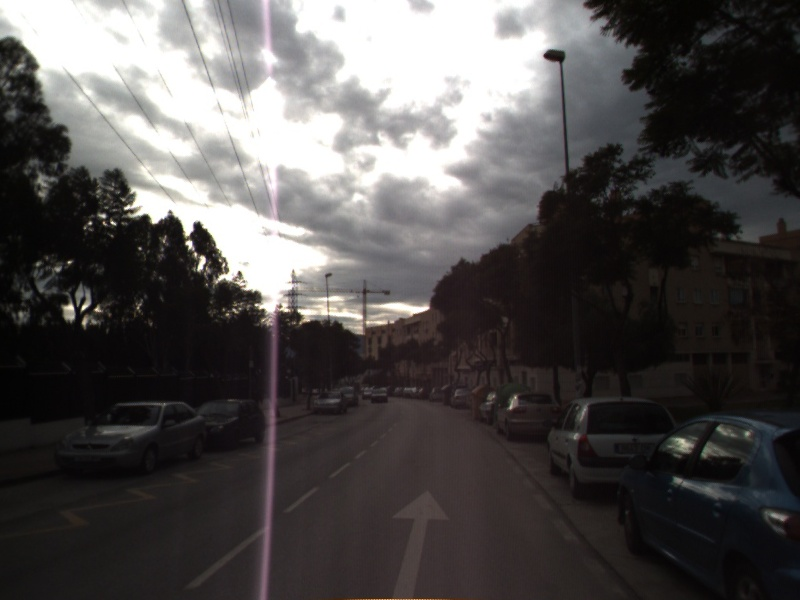STRAIGHT: (389, 488, 452, 600)
